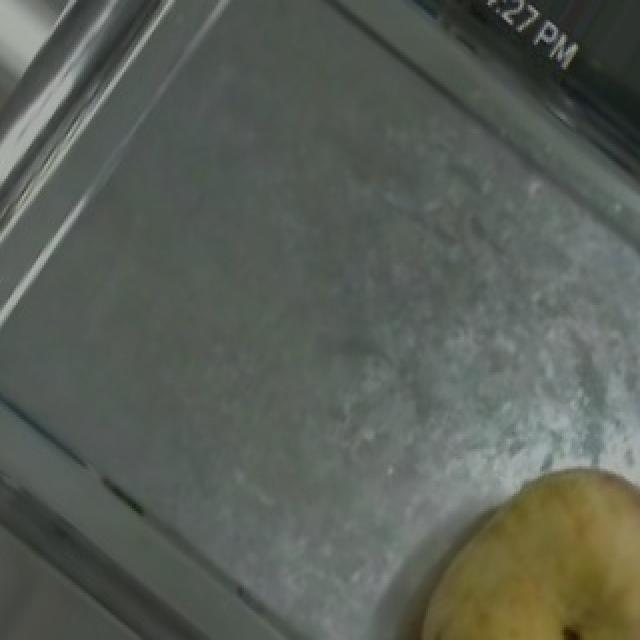Fruit: (388, 434, 640, 640)
